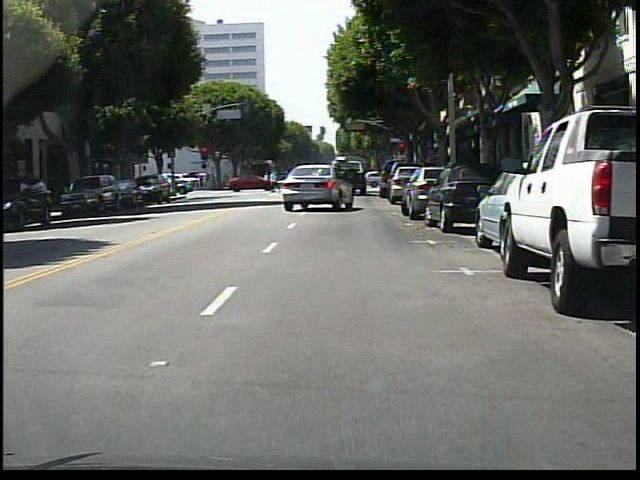person: (290, 167, 301, 193), (269, 170, 280, 194), (264, 172, 270, 189)
